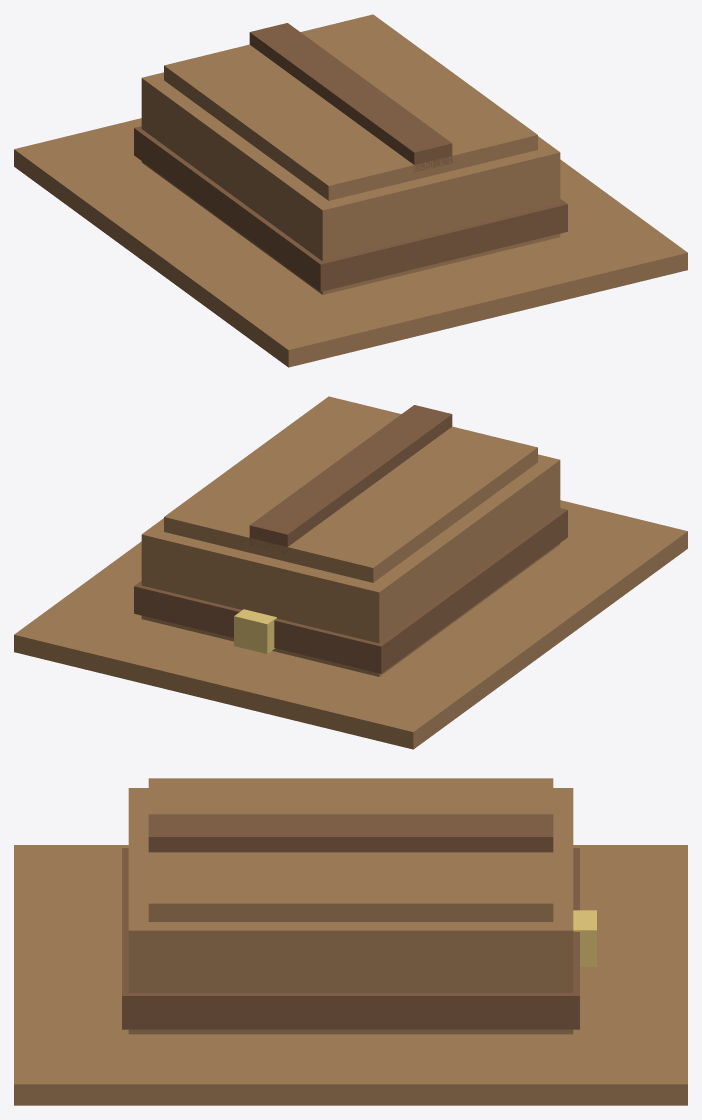
Rendered from chapeu_aventureiro.glb.
The picture shows the model from 3 angles, top to bottom: view 1: azimuth 30°, elevation 25°; view 2: azimuth 150°, elevation 25°; view 3: azimuth 270°, elevation 25°; orthographic projection. The views are drawn at different scales.
Parts seen in each view (by area): view 1: chapeu_aventureiro; view 2: chapeu_aventureiro; view 3: chapeu_aventureiro.
Part boxes in pixels (x1=…): chapeu_aventureiro: x1=14, y1=14, x2=687, y2=367; chapeu_aventureiro: x1=14, y1=396, x2=687, y2=749; chapeu_aventureiro: x1=14, y1=778, x2=687, y2=1105.
Size of the model in its own units: 0.84 by 0.2625 by 1.
